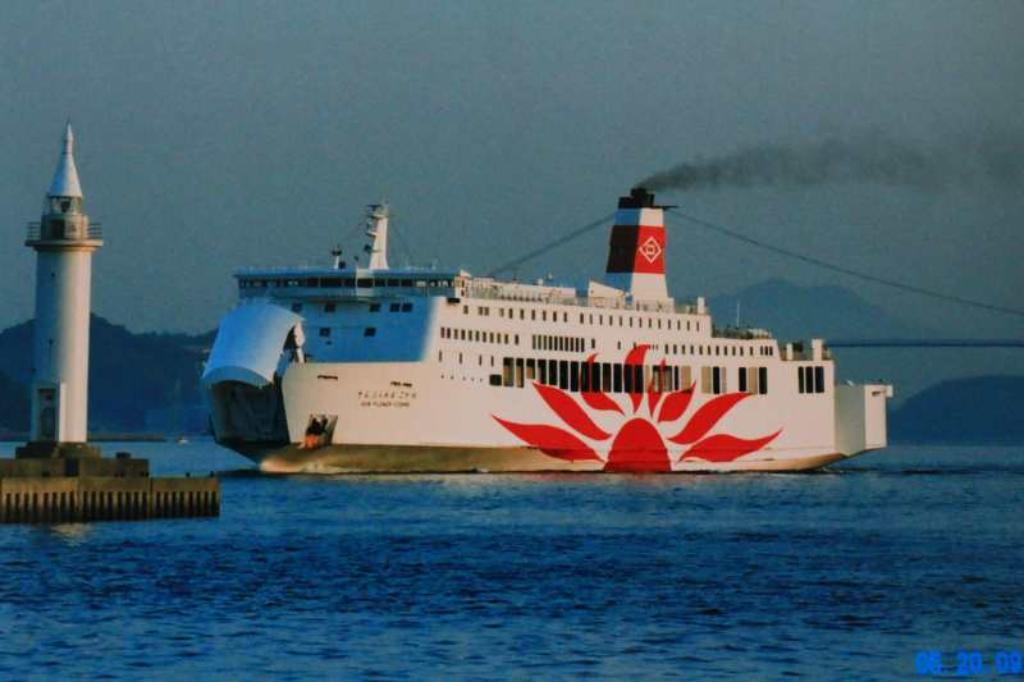PassengerShip: (204, 183, 896, 475)
